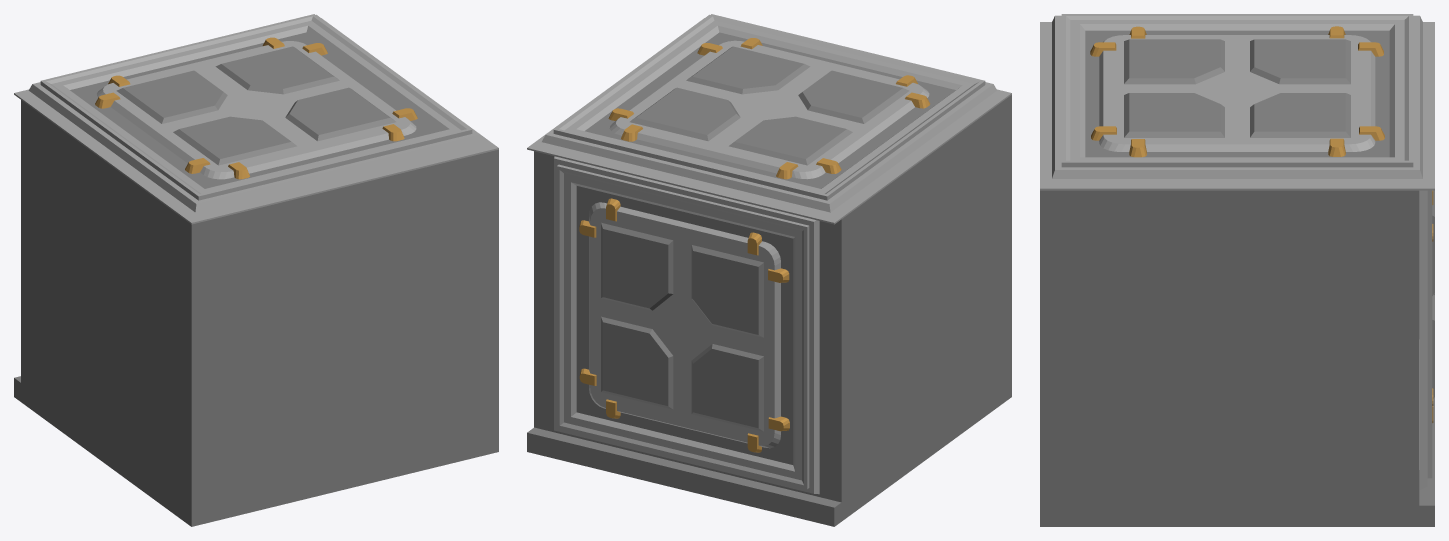
File: LabBlock_Panel_1m.gltf
The picture shows the model from 3 angles, left to right: view 1: azimuth 30°, elevation 25°; view 2: azimuth 150°, elevation 25°; view 3: azimuth 270°, elevation 25°; orthographic projection. The views are drawn at different scales.
Visible parts, largest first — view 1: LabBlock_Panel_1m; view 2: LabBlock_Panel_1m; view 3: LabBlock_Panel_1m.
Boxes of the visible parts, x1,y1,x2,y2 form: LabBlock_Panel_1m: (14, 14, 498, 526); LabBlock_Panel_1m: (527, 14, 1011, 526); LabBlock_Panel_1m: (1040, 14, 1434, 526).
Size of the model in its own units: 1 by 1 by 1.
